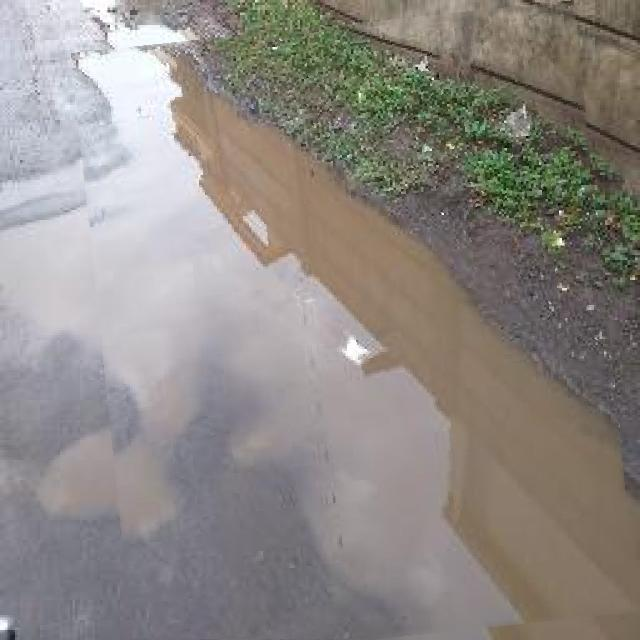puddle: (87, 13, 624, 640)
